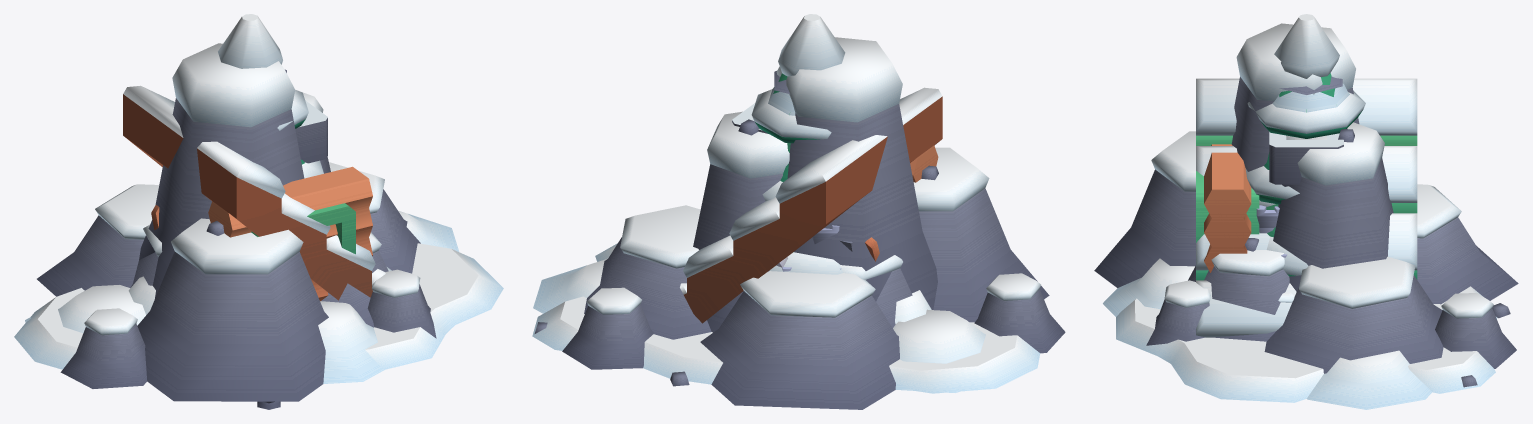
Rendered from ice.glb.
3 renders of one model, left to right at view 1: azimuth 30°, elevation 25°; view 2: azimuth 150°, elevation 25°; view 3: azimuth 270°, elevation 25°, orthographic. The views are drawn at different scales.
Parts seen in each view (by area): view 1: rocks-large, cabin-roof-snow, snow-flat-large, cabin-wall, tree-snow-b, cabin-doorway, cabin-roof-snow-chimney, rocks-medium, snow-bunker; view 2: rocks-large, cabin-roof-snow, snow-flat-large, tree-snow-b, rocks-medium, snow-bunker, cabin-wall; view 3: rocks-large, cabin-roof-snow, snow-flat-large, tree-snow-b, cabin-wall, cabin-roof-snow-chimney, tree-snow-a, cabin-doorway, tree-snow-c, building-castle, lantern.
Part boxes in pixels (<box>): rocks-large: <box>25,43,459,401</box>; cabin-roof-snow: <box>123,85,391,300</box>; snow-flat-large: <box>14,243,503,369</box>; cabin-wall: <box>208,166,372,301</box>; tree-snow-b: <box>218,14,323,178</box>; cabin-doorway: <box>232,179,372,254</box>; cabin-roof-snow-chimney: <box>295,100,327,163</box>; rocks-medium: <box>130,224,162,287</box>; snow-bunker: <box>128,276,155,314</box>; rocks-large: <box>533,37,1065,409</box>; cabin-roof-snow: <box>680,87,942,323</box>; snow-flat-large: <box>532,243,1040,393</box>; tree-snow-b: <box>751,14,845,274</box>; rocks-medium: <box>840,255,912,327</box>; snow-bunker: <box>895,290,931,323</box>; cabin-wall: <box>910,145,938,182</box>; rocks-large: <box>1094,23,1518,409</box>; cabin-roof-snow: <box>1196,78,1417,337</box>; snow-flat-large: <box>1116,286,1497,402</box>; tree-snow-b: <box>1245,14,1365,275</box>; cabin-wall: <box>1204,144,1251,272</box>; cabin-roof-snow-chimney: <box>1269,132,1343,207</box>; tree-snow-a: <box>1256,83,1353,276</box>; cabin-doorway: <box>1196,167,1259,242</box>; tree-snow-c: <box>1259,92,1361,199</box>; building-castle: <box>1256,205,1279,233</box>; lantern: <box>1279,76,1342,94</box>.
Bounding box in the file's own units: 3.2 × 2.54 × 2.69.
Materials: 2 (2 with a texture image).
